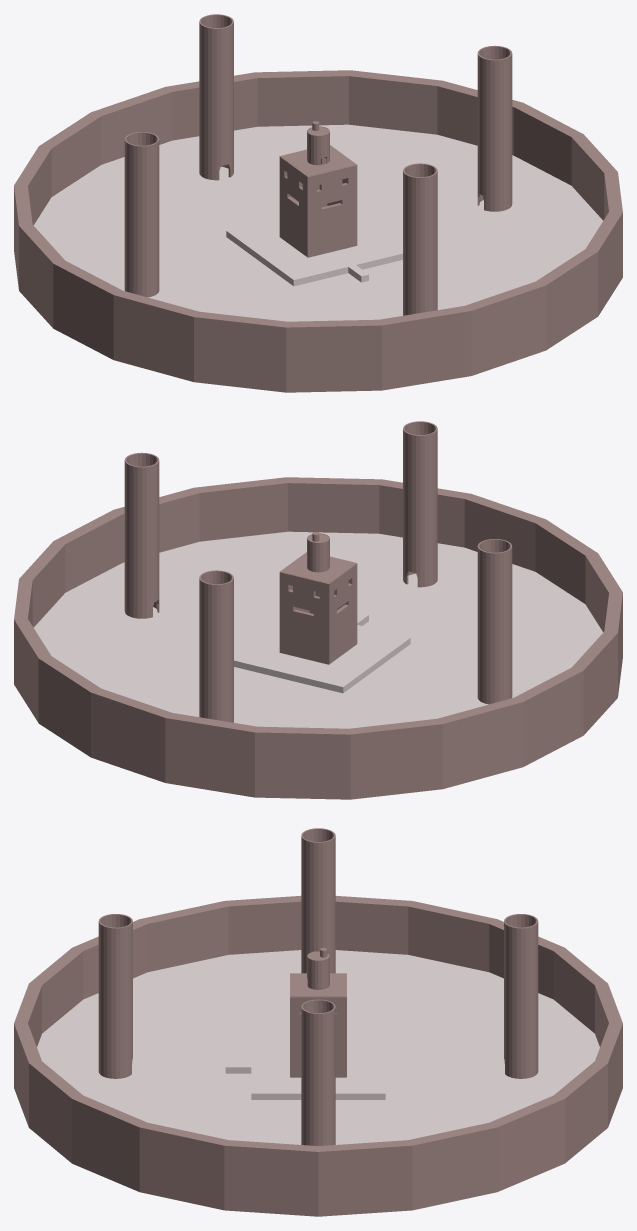
The model's file is Test_LevelDesign_01.fbx.
The picture shows the model from 3 angles, top to bottom: view 1: azimuth 30°, elevation 25°; view 2: azimuth 150°, elevation 25°; view 3: azimuth 270°, elevation 25°; orthographic projection.
Visible parts, largest first — view 1: Bowl_01, mini_tour_02, mini_tour_04, sol_tour_centrale_01, mini_tour_03, mini_tour_01, mur_tour_centre_fenetres_05, mur_tour_centre_fenetres_04, plafond_tour_centre, Tour_cylindre_centre_01; view 2: Bowl_01, mini_tour_02, mini_tour_04, sol_tour_centrale_01, mini_tour_01, mini_tour_03, mur_tour_centre_fenetres_03, mur_tour_centre_fenetres_04, plafond_tour_centre, Tour_cylindre_centre_01; view 3: Bowl_01, mini_tour_01, mini_tour_03, sol_tour_centrale_01, mini_tour_02, mini_tour_04, mur_tour_centre_porte_01, plafond_tour_centre, Tour_cylindre_centre_01.
Part boxes in pixels (x1,y1,x2,y2): Bowl_01: (14, 70, 622, 392); mini_tour_02: (477, 45, 512, 211); mini_tour_04: (124, 132, 159, 297); sol_tour_centrale_01: (226, 213, 402, 286); mini_tour_03: (199, 14, 233, 180); mini_tour_01: (403, 163, 437, 315); mur_tour_centre_fenetres_05: (306, 165, 357, 257); mur_tour_centre_fenetres_04: (279, 155, 308, 257); plafond_tour_centre: (281, 146, 355, 176); Tour_cylindre_centre_01: (307, 126, 329, 165); Bowl_01: (14, 477, 622, 799); mini_tour_02: (124, 452, 159, 618); mini_tour_04: (477, 539, 512, 704); sol_tour_centrale_01: (234, 620, 410, 693); mini_tour_01: (403, 421, 437, 587); mini_tour_03: (199, 570, 233, 722); mur_tour_centre_fenetres_03: (279, 572, 328, 664); mur_tour_centre_fenetres_04: (326, 563, 357, 664); plafond_tour_centre: (281, 553, 355, 583); Tour_cylindre_centre_01: (307, 533, 329, 572); Bowl_01: (14, 895, 622, 1216); mini_tour_01: (98, 914, 132, 1078); mini_tour_03: (504, 914, 538, 1078); sol_tour_centrale_01: (251, 1037, 385, 1099); mini_tour_02: (301, 999, 335, 1145); mini_tour_04: (301, 828, 335, 973); mur_tour_centre_porte_01: (290, 997, 346, 1077); plafond_tour_centre: (291, 973, 345, 996); Tour_cylindre_centre_01: (307, 951, 329, 989).
Bounding box in the file's own units: 70566 × 21345 × 70566.
